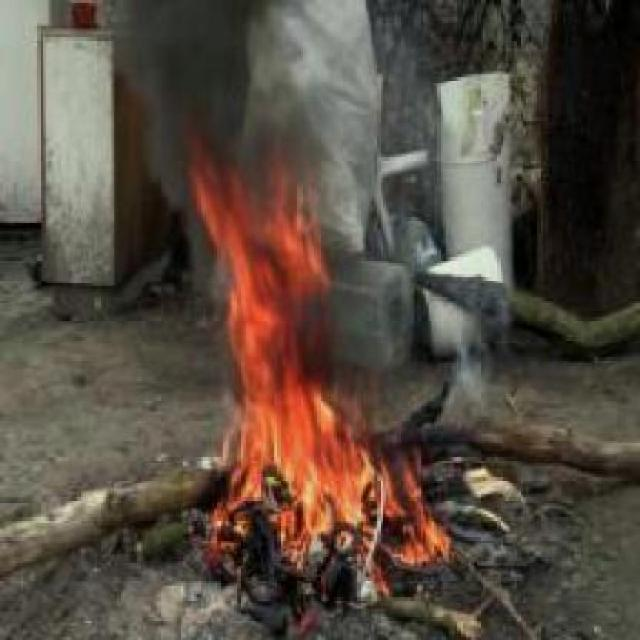Fire: (176, 128, 454, 566)
Smoke: (75, 0, 320, 123)
